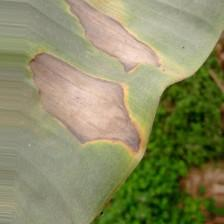cordana: (3, 0, 224, 224)
